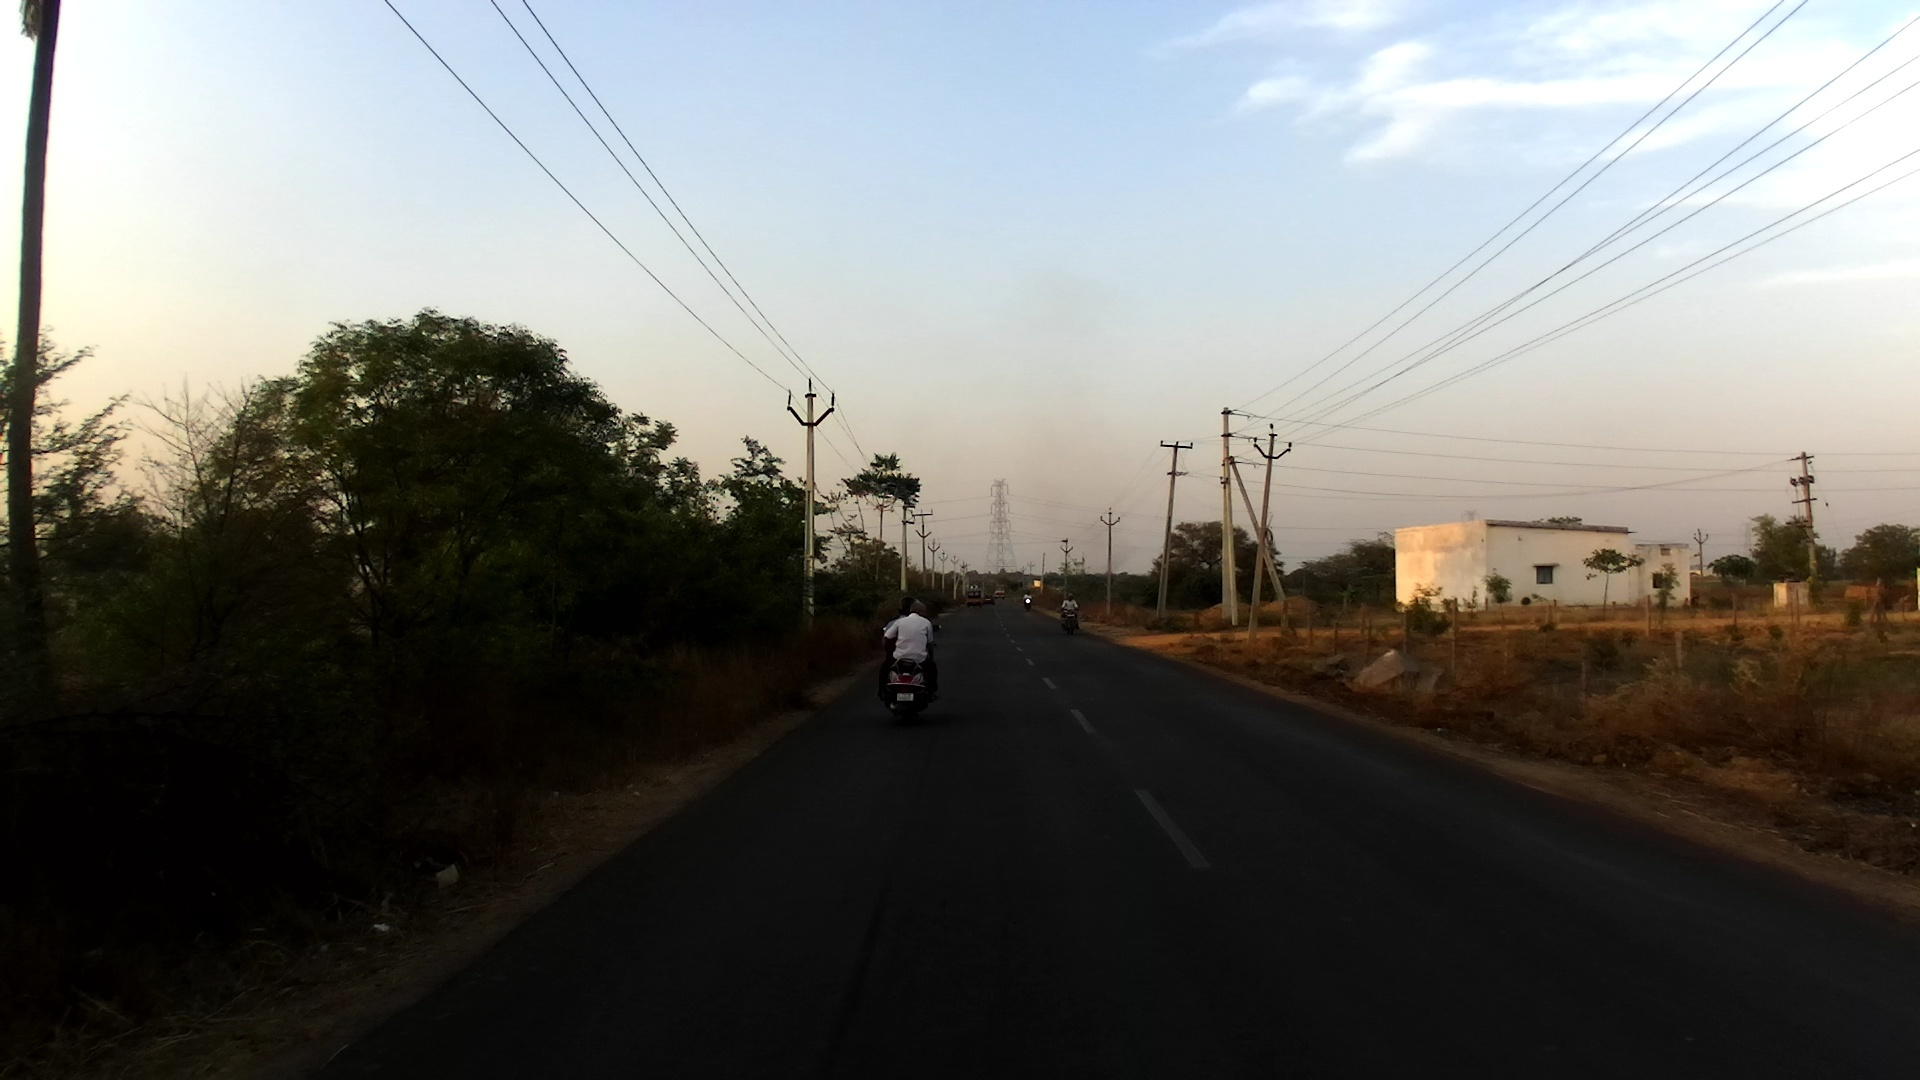autorickshaw: (962, 584, 983, 607)
bus: (992, 582, 1006, 599)
car: (983, 593, 994, 605)
motorcycle: (877, 620, 944, 724), (1057, 605, 1080, 635), (1022, 598, 1034, 612)
rider: (877, 600, 944, 706), (881, 596, 930, 669), (1059, 591, 1080, 627), (1025, 590, 1034, 607)
